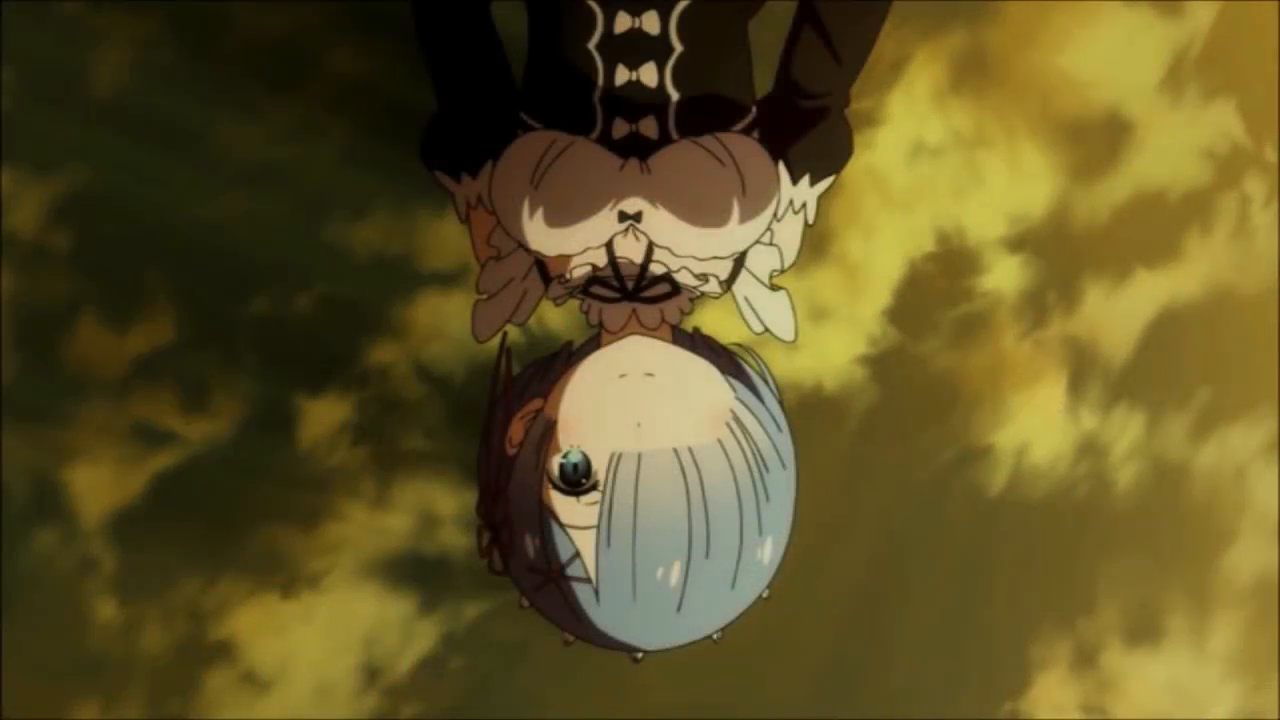REM: (480, 333, 804, 661)
